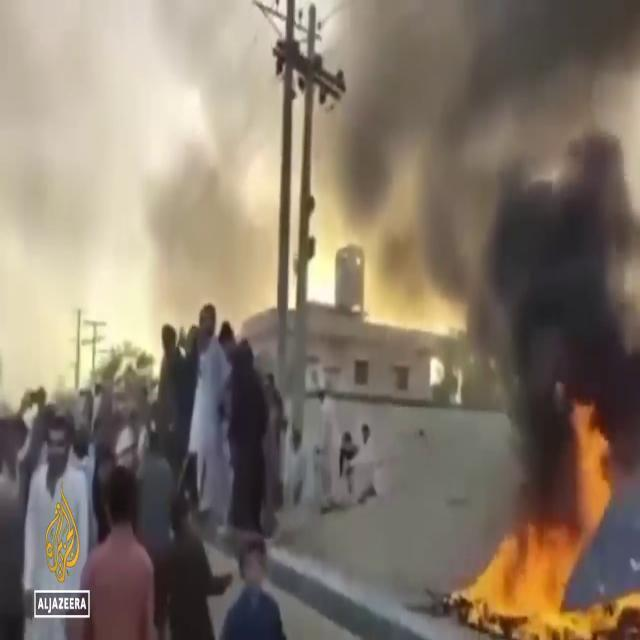Fire: (456, 400, 632, 636)
Smoke: (328, 1, 640, 466), (0, 0, 272, 393)
